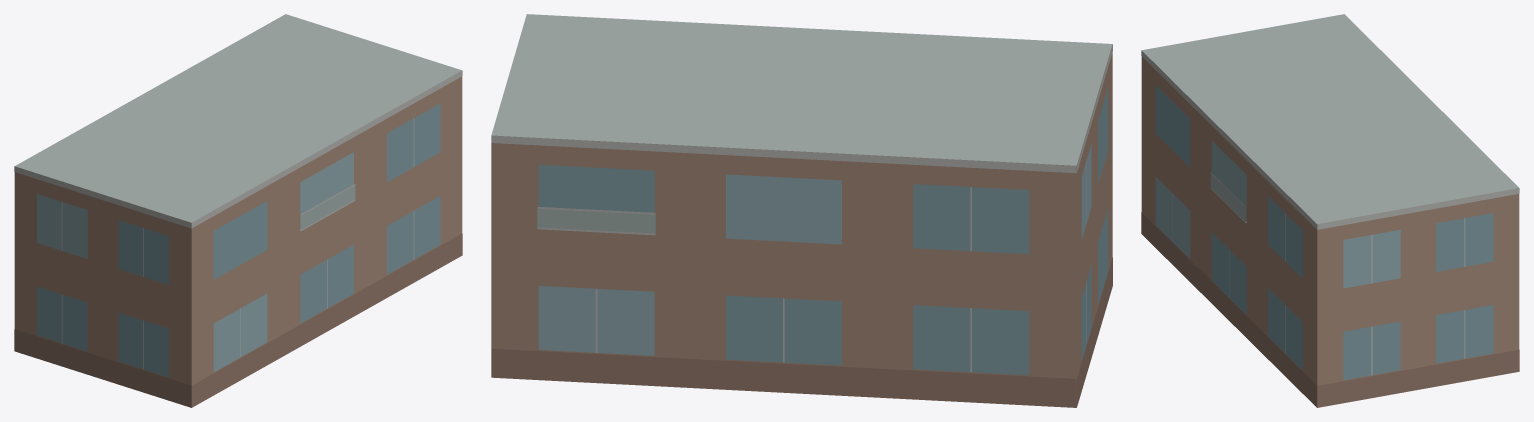
File: survey-upis-32853132.glb
3 renders of one model, left to right at view 1: azimuth 30°, elevation 25°; view 2: azimuth 150°, elevation 25°; view 3: azimuth 270°, elevation 25°, orthographic. The views are drawn at different scales.
Visible parts, largest first — view 1: survey-upis-32853132.tmp; view 2: survey-upis-32853132.tmp; view 3: survey-upis-32853132.tmp.
Part boxes in pixels (x1=…): survey-upis-32853132.tmp: x1=14, y1=14, x2=462, y2=407; survey-upis-32853132.tmp: x1=491, y1=14, x2=1112, y2=407; survey-upis-32853132.tmp: x1=1141, y1=14, x2=1519, y2=407.
Size of the model in its own units: 19.41 by 7.9 by 14.75.
